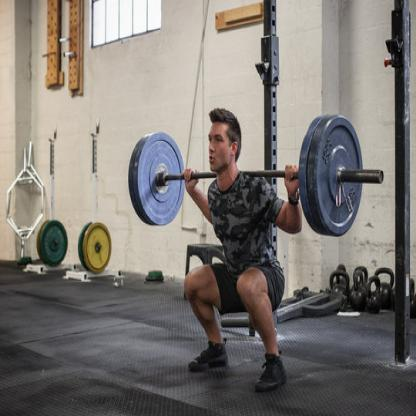barbell: (126, 113, 387, 238), (35, 217, 112, 274)
